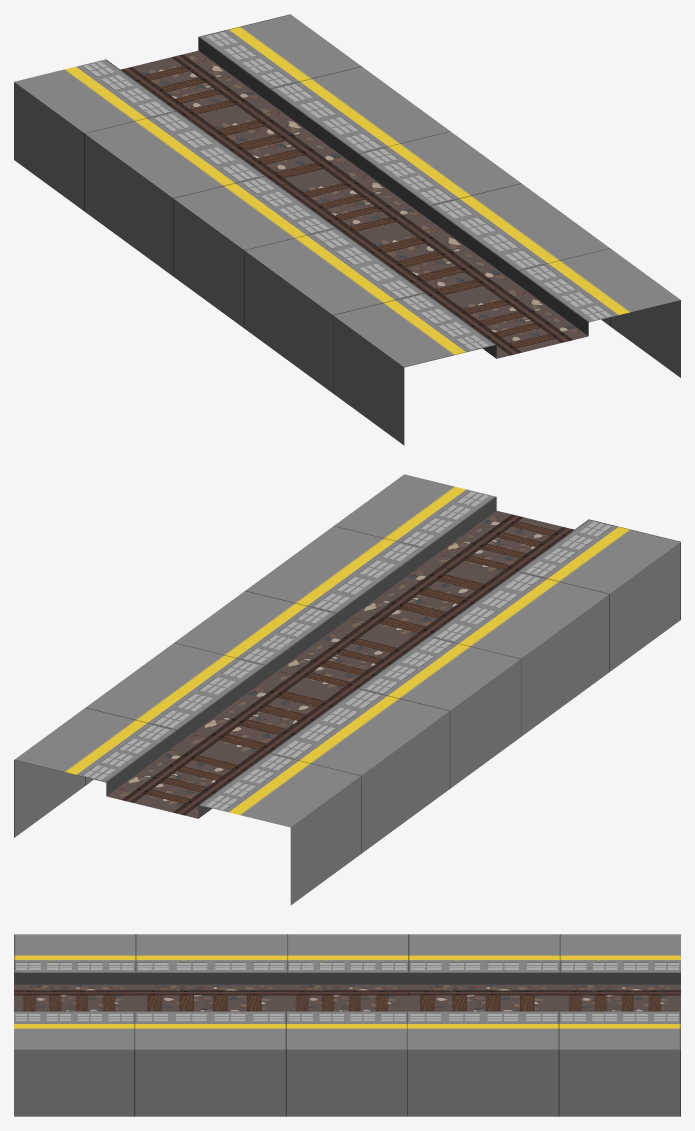
File: city_train_track.fbx
3 renders of one model, top to bottom at view 1: azimuth 30°, elevation 25°; view 2: azimuth 150°, elevation 25°; view 3: azimuth 270°, elevation 25°, orthographic. The views are drawn at different scales.
Visible parts, largest first — view 1: train_track; view 2: train_track; view 3: train_track.
Boxes of the visible parts, box(x1,y1,x2,y2) form: train_track: box(14, 14, 680, 445); train_track: box(14, 474, 680, 905); train_track: box(14, 934, 680, 1116).
Bounding box in the file's own units: 9 × 2.43 × 22.
